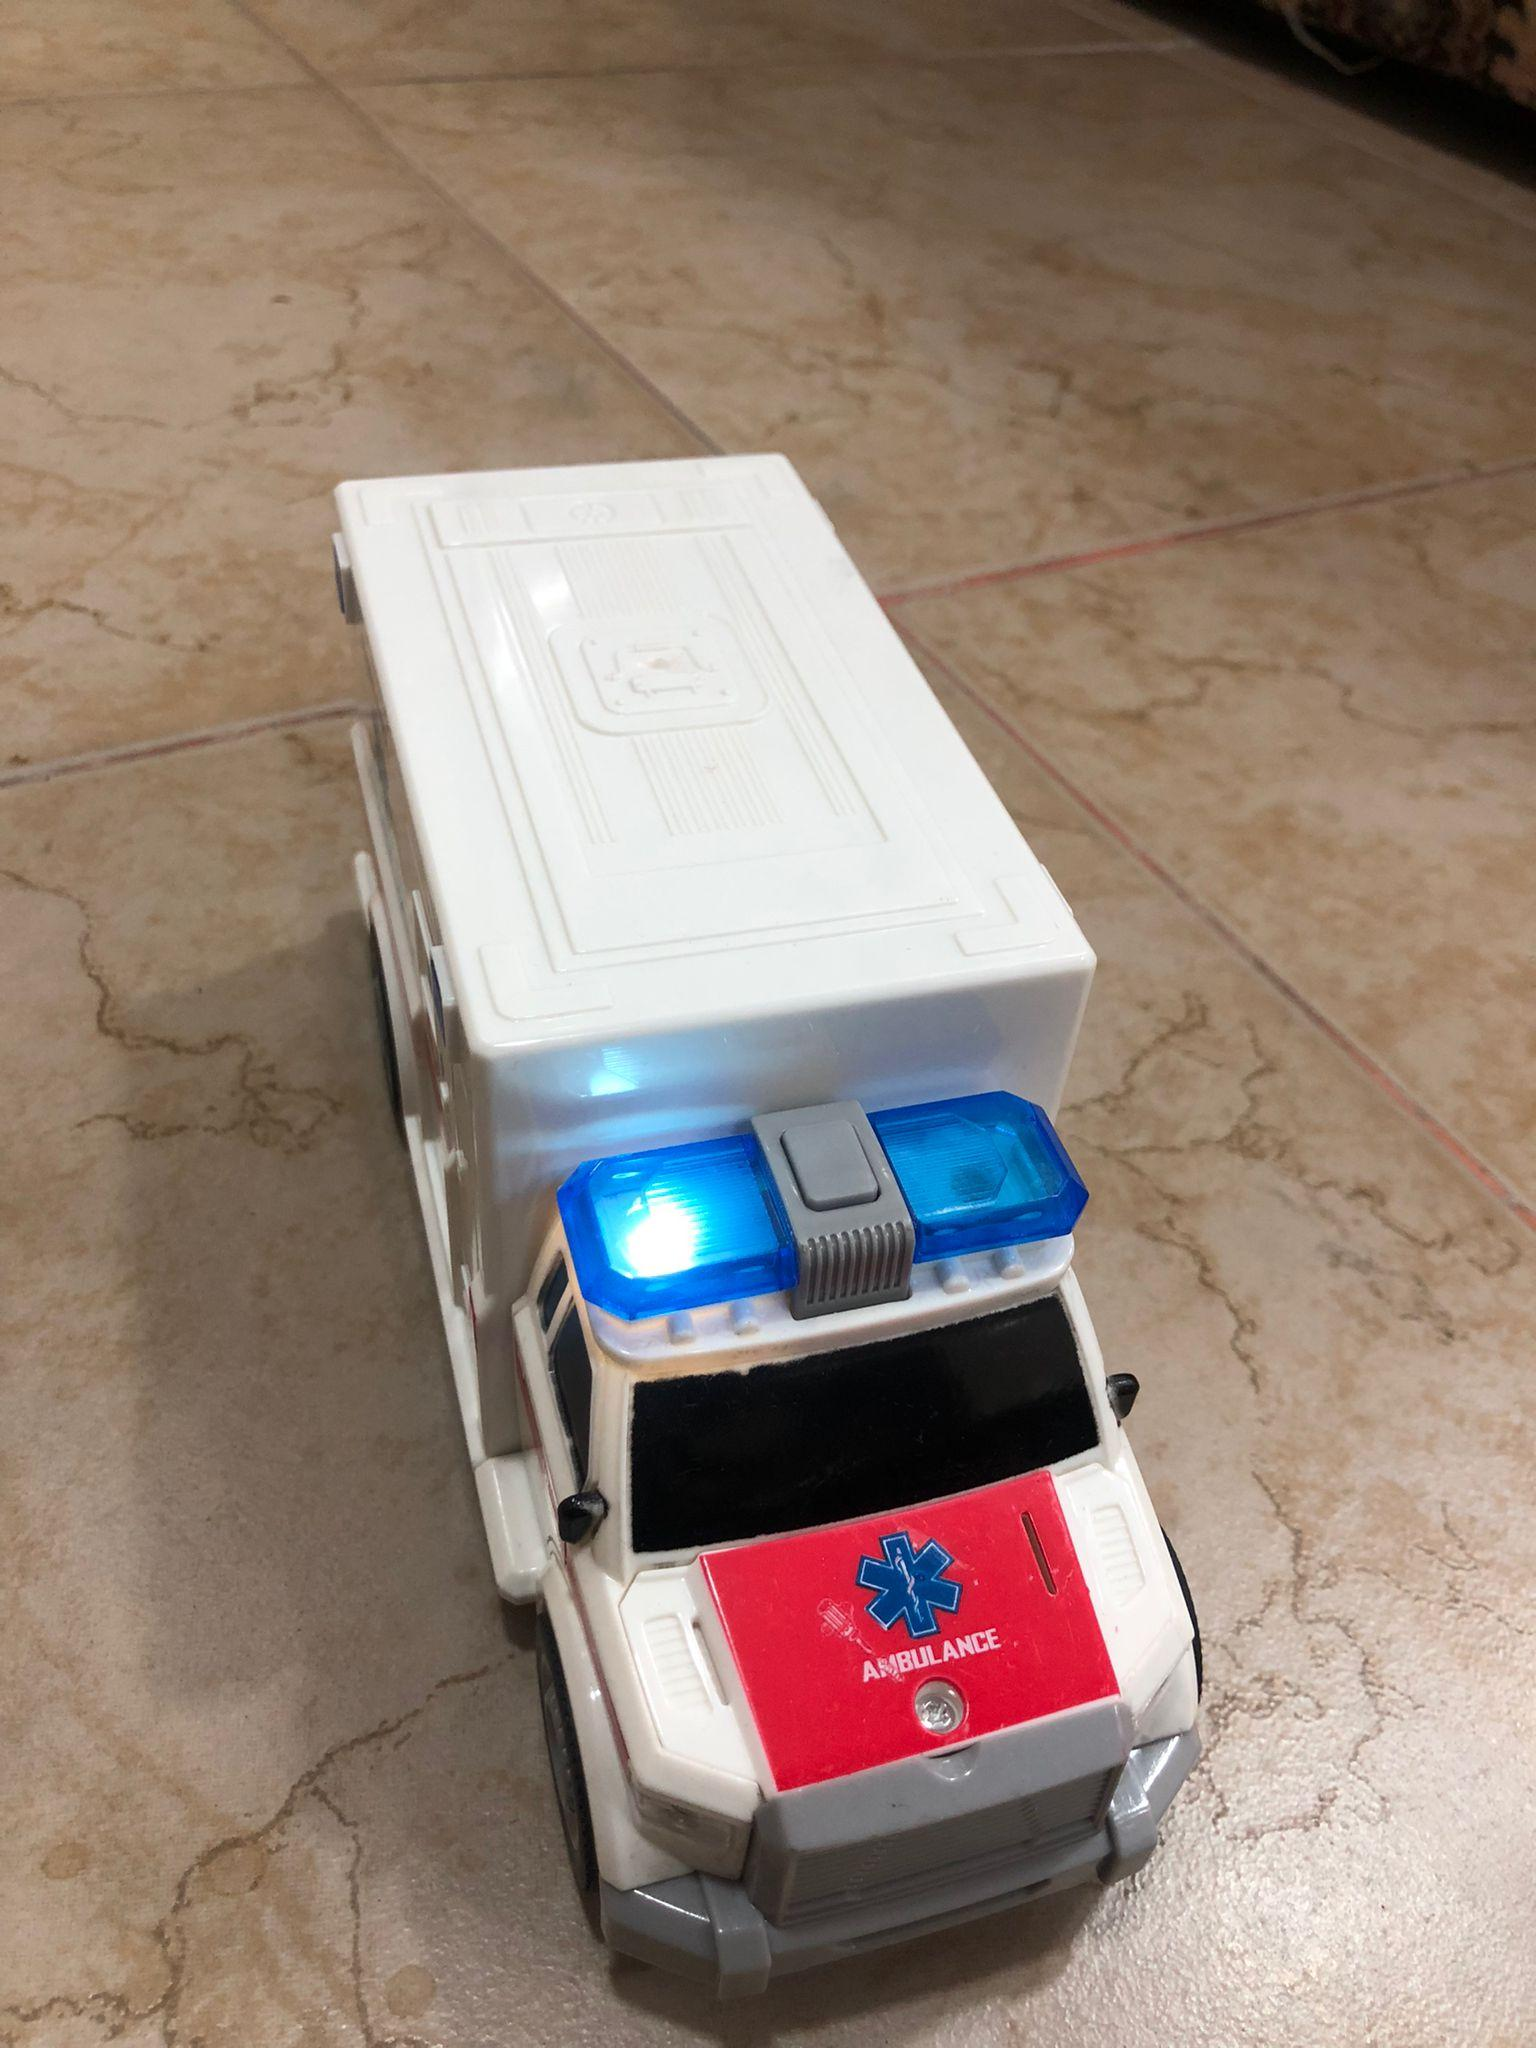ambulance_on: (331, 453, 1200, 1975)
